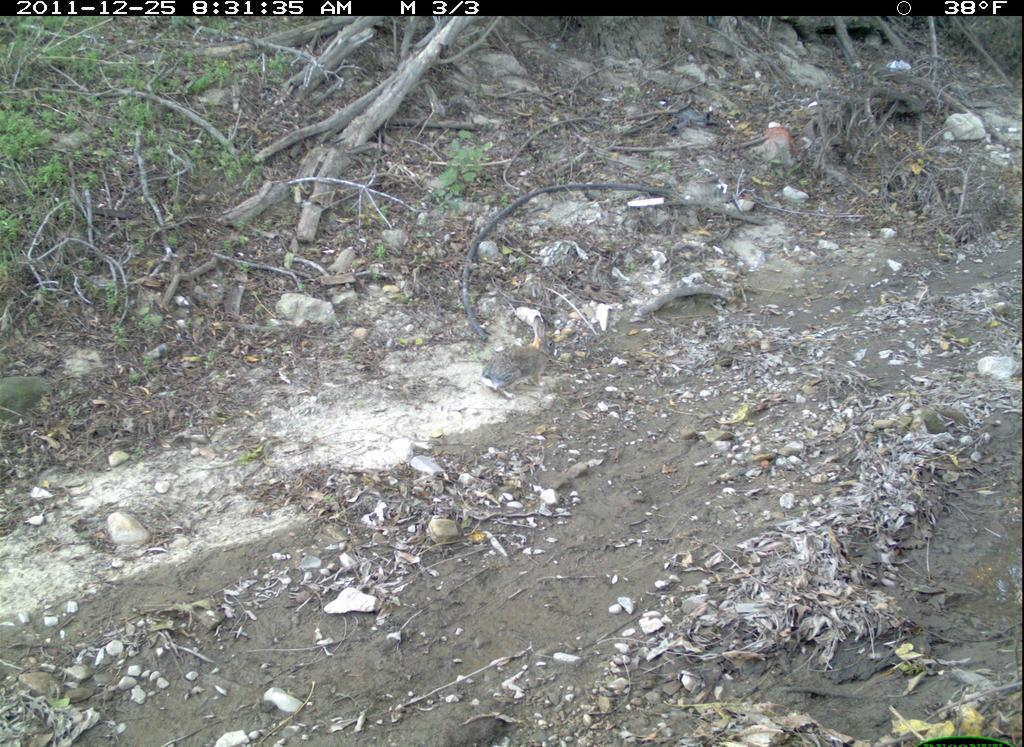rabbit: (477, 313, 565, 404)
